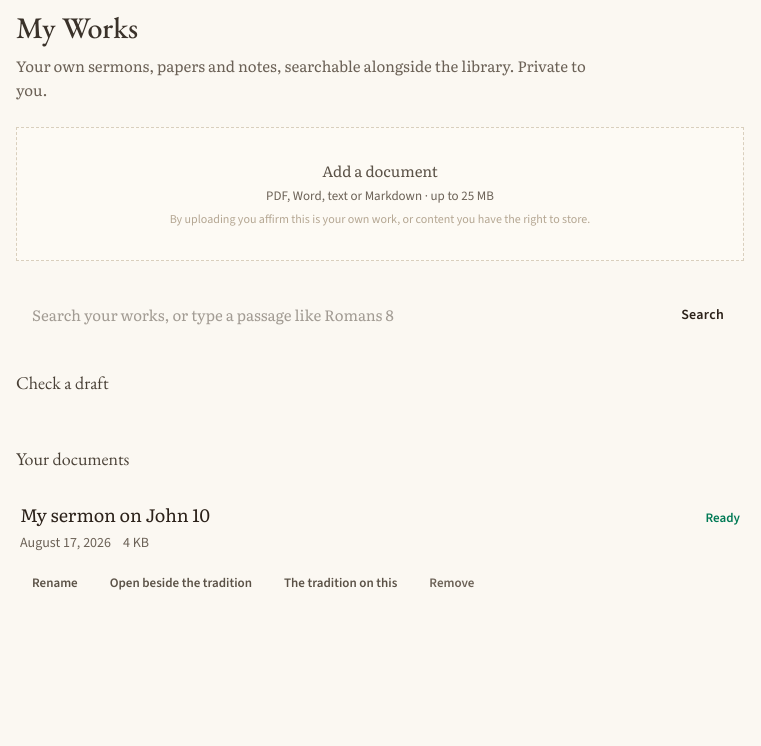
Scenario: My Works — the draft check › renders overlaps and tradition voices
The image size is (761, 746).
Check: the text "My sermon on John 10" is shown, box top-left (20, 501), bottom-right (210, 528)
Click the heading "Check a draft" at (62, 382), box top-left (16, 371), bottom-right (109, 394)
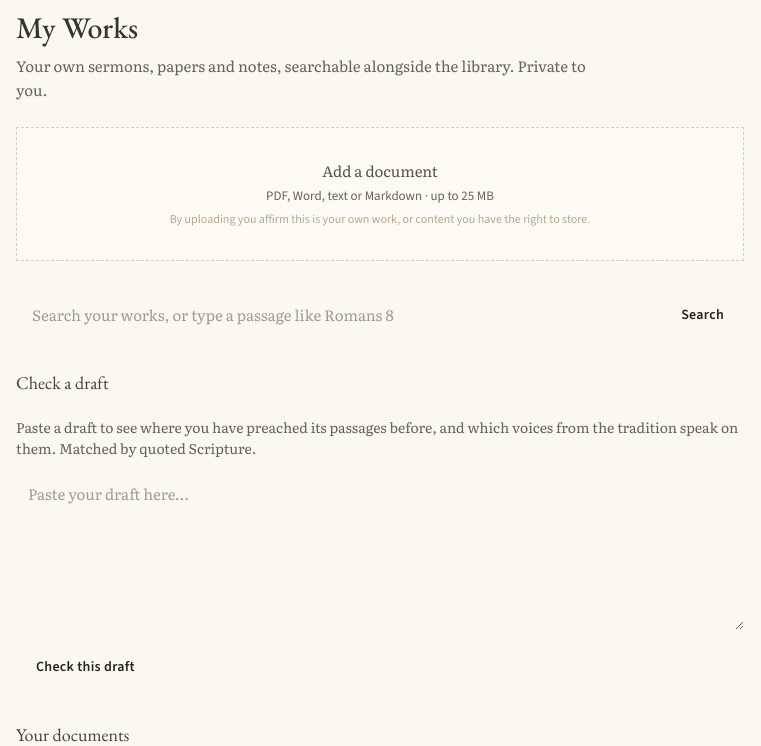
Type "All things work together for good…" into the text box named "Draft to check" at (380, 550), box top-left (16, 471), bottom-right (744, 630)
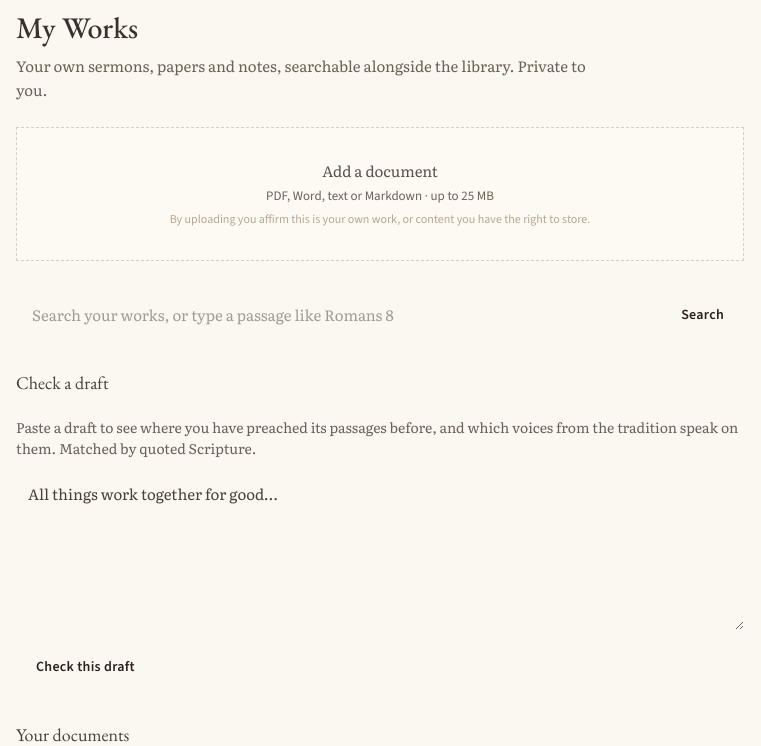
Click the button "Check this draft" at (85, 667), box top-left (16, 645), bottom-right (155, 689)
(page scrolled)
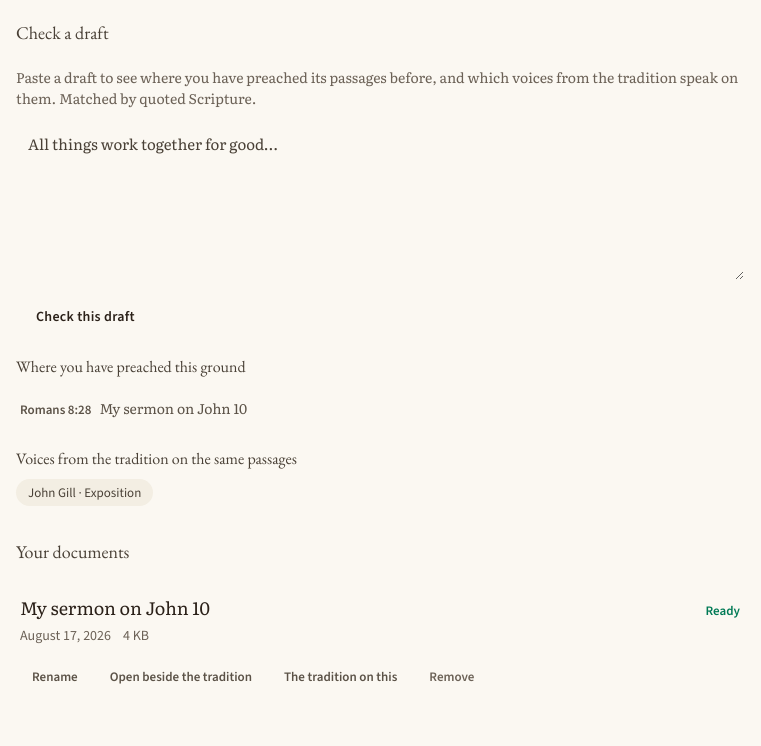
Check: the heading "Where you have preached this ground" is shown, box top-left (16, 356), bottom-right (246, 377)
Check: the list item "John Gill · Exposition" is shown, box top-left (16, 479), bottom-right (153, 506)
